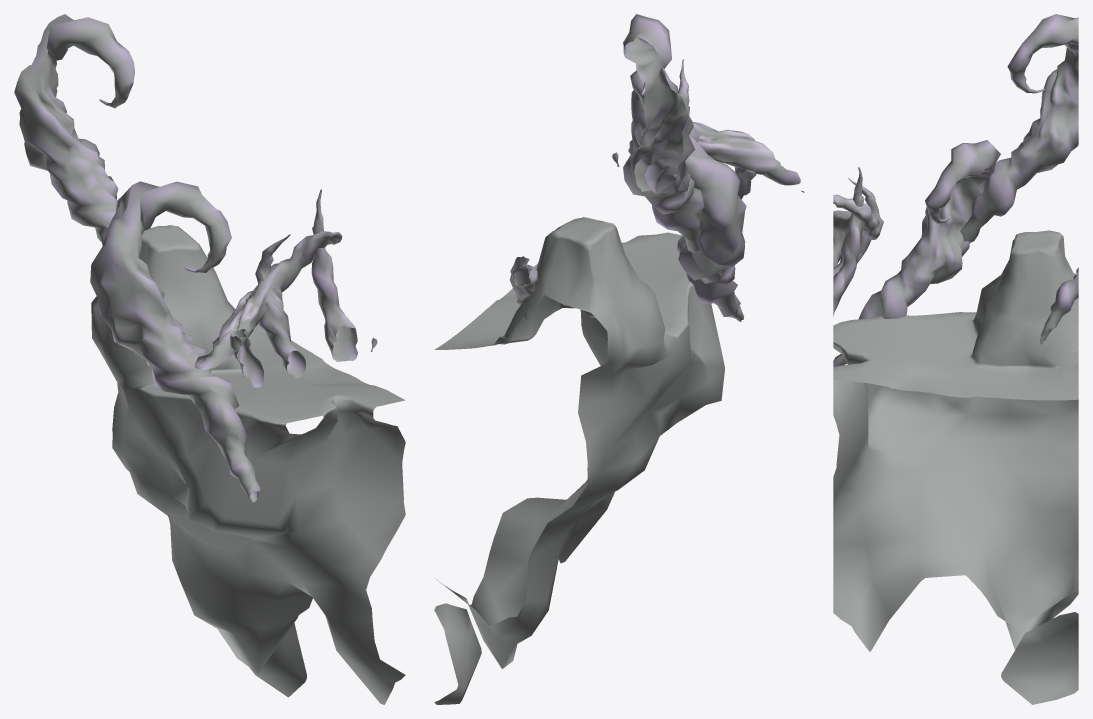
3 renders of one model, left to right at view 1: azimuth 30°, elevation 25°; view 2: azimuth 150°, elevation 25°; view 3: azimuth 270°, elevation 25°, orthographic. The views are drawn at different scales.
Visible parts, largest first — view 1: G:\FFXIV-MapTools\exports\a2f2\bg\ex1\03_abr_a2\fld\a2f2\bgp (×5); view 2: G:\FFXIV-MapTools\exports\a2f2\bg\ex1\03_abr_a2\fld\a2f2\bgp (×5); view 3: G:\FFXIV-MapTools\exports\a2f2\bg\ex1\03_abr_a2\fld\a2f2\bgp (×7).
Boxes of the visible parts, x1,y1,x2,y2 form: G:\FFXIV-MapTools\exports\a2f2\bg\ex1\03_abr_a2\fld\a2f2\bgp (×5): [14, 14, 405, 704]; G:\FFXIV-MapTools\exports\a2f2\bg\ex1\03_abr_a2\fld\a2f2\bgp (×5): [434, 14, 804, 704]; G:\FFXIV-MapTools\exports\a2f2\bg\ex1\03_abr_a2\fld\a2f2\bgp (×7): [833, 14, 1078, 704].
Size of the model in its own units: 126 by 350 by 128.
